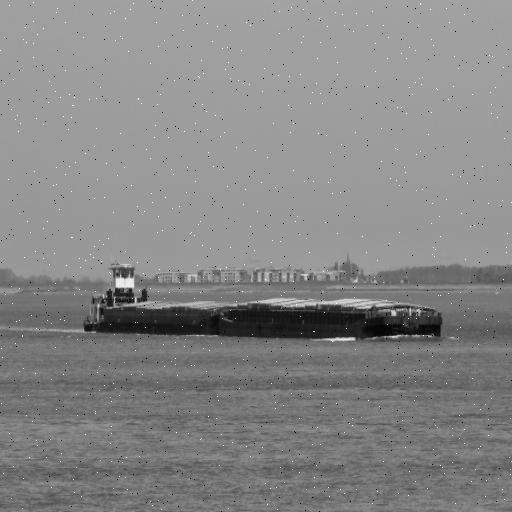tugboat: (81, 259, 154, 345)
